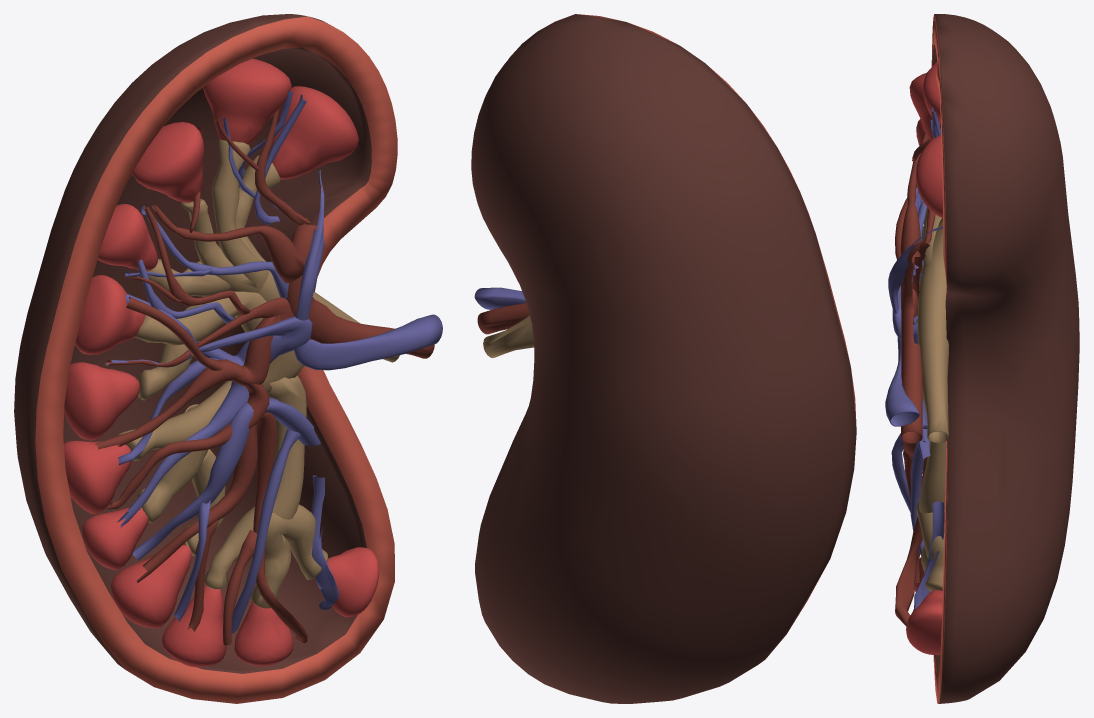
File: kidney_vasc_flow.glb
3 renders of one model, left to right at view 1: azimuth 30°, elevation 25°; view 2: azimuth 150°, elevation 25°; view 3: azimuth 270°, elevation 25°, orthographic. The views are drawn at different scales.
Visible parts, largest first — view 1: object 1, KidneyOutside_kidneyEdge_0, Icosphere_PiramideRenal_0, BezierCurve.001_tronco_0, BezierCurve.002_venas_0, BezierCurve_arterias_0; view 2: object 1, BezierCurve.001_tronco_0, BezierCurve_arterias_0, BezierCurve.002_venas_0, KidneyOutside_kidneyEdge_0; view 3: object 1, BezierCurve.001_tronco_0, BezierCurve_arterias_0, BezierCurve.002_venas_0, Icosphere_PiramideRenal_0, KidneyOutside_kidneyEdge_0.
Boxes of the visible parts, left/top/right/bottom form: object 1: left=14, top=14, right=371, bottom=673; KidneyOutside_kidneyEdge_0: left=35, top=16, right=397, bottom=703; Icosphere_PiramideRenal_0: left=64, top=58, right=379, bottom=667; BezierCurve.001_tronco_0: left=117, top=139, right=399, bottom=608; BezierCurve.002_venas_0: left=106, top=90, right=442, bottom=633; BezierCurve_arterias_0: left=95, top=109, right=434, bottom=645; object 1: left=471, top=14, right=856, bottom=703; BezierCurve.001_tronco_0: left=483, top=315, right=534, bottom=357; BezierCurve_arterias_0: left=477, top=303, right=529, bottom=334; BezierCurve.002_venas_0: left=474, top=287, right=526, bottom=309; KidneyOutside_kidneyEdge_0: left=508, top=14, right=856, bottom=629; object 1: left=932, top=14, right=1079, bottom=703; BezierCurve.001_tronco_0: left=916, top=207, right=948, bottom=591; BezierCurve_arterias_0: left=895, top=119, right=940, bottom=626; BezierCurve.002_venas_0: left=885, top=107, right=944, bottom=609; Icosphere_PiramideRenal_0: left=906, top=62, right=944, bottom=655; KidneyOutside_kidneyEdge_0: left=931, top=14, right=947, bottom=703.
Size of the model in its own units: 154 by 254 by 68.84.
